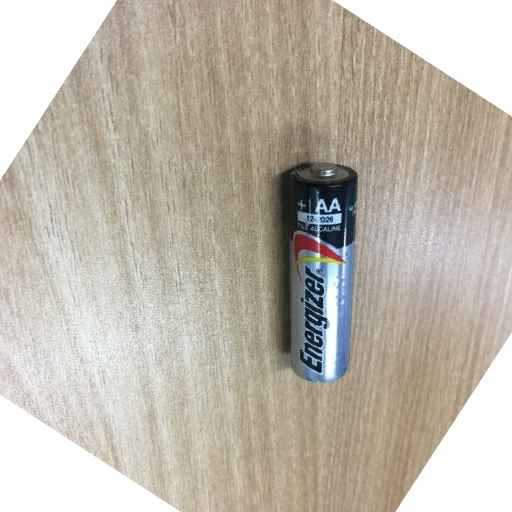Battery_0: (275, 151, 367, 396)
